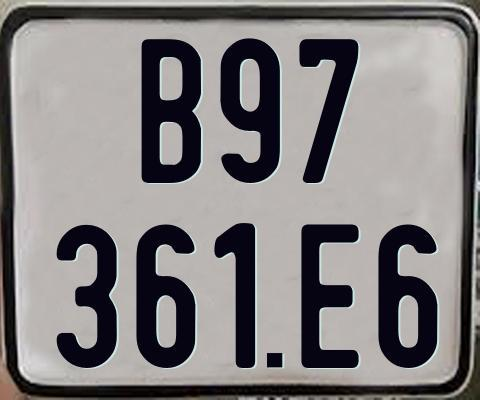1: (213, 222, 256, 368)
3: (56, 224, 123, 373)
6: (135, 224, 197, 371), (375, 221, 434, 367)
7: (298, 37, 358, 182)
9: (218, 37, 283, 187)
B: (141, 39, 202, 183)
E: (300, 221, 364, 368)
